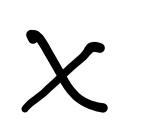mult: (22, 30, 108, 113)
